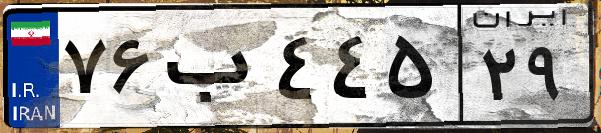2: (475, 38, 525, 113)
4: (270, 28, 330, 110), (330, 28, 385, 110)
5: (385, 28, 445, 110)
6: (110, 28, 158, 98)
7: (57, 26, 110, 100)
9: (525, 38, 570, 115)
ب: (158, 20, 270, 120)
